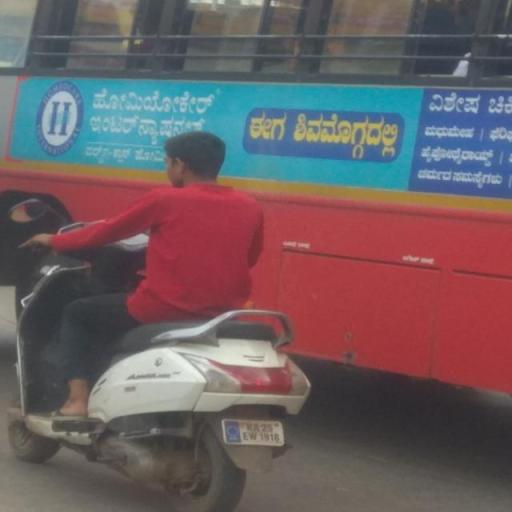bike: (5, 126, 312, 512)
numberplate: (224, 417, 287, 445)
withouthelmet: (165, 132, 221, 182)
